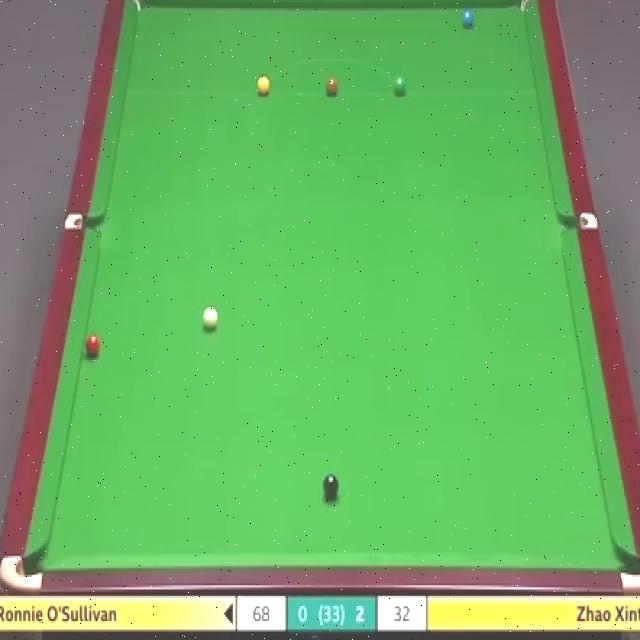black-ball: (322, 472, 339, 500)
blue-ball: (460, 9, 474, 27)
brown-ball: (324, 74, 339, 97)
green-ball: (391, 76, 407, 97)
red-ball: (85, 334, 102, 360)
white-ball: (202, 304, 219, 333)
yellow-ball: (256, 74, 271, 95)
